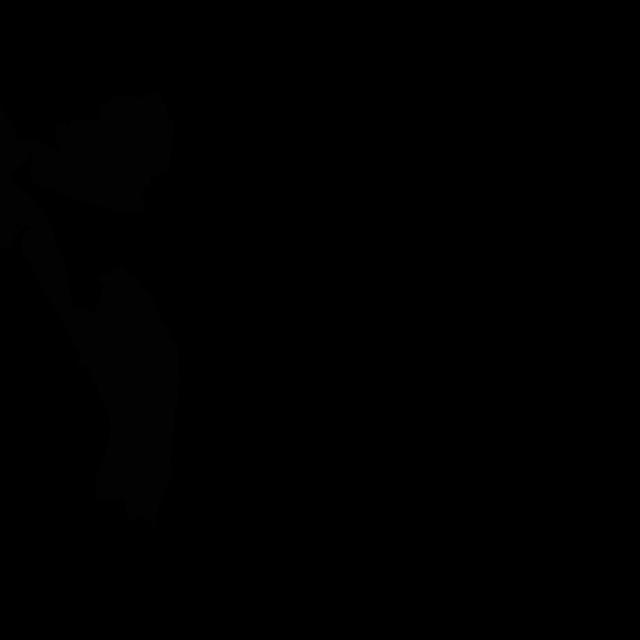cardboard: (0, 106, 180, 527), (13, 91, 174, 213)
